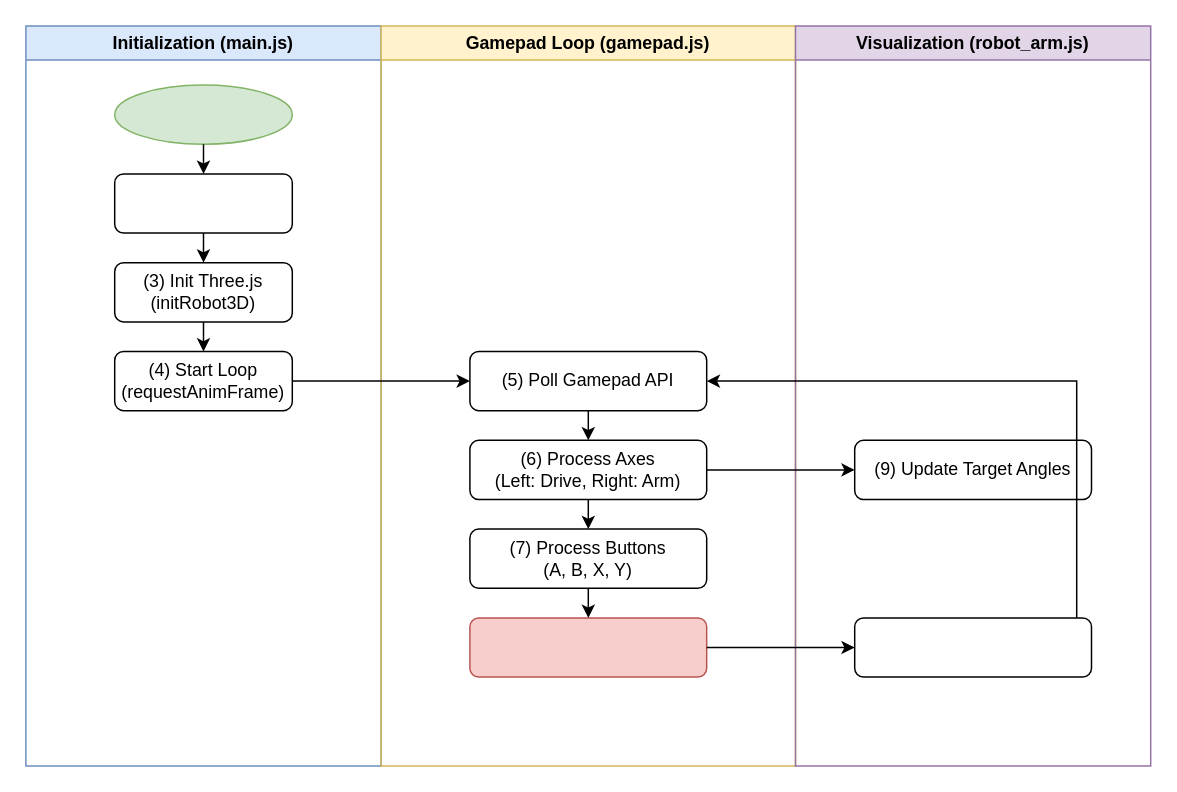
The diagram is 1177 pixels wide and 792 high, and some of its shapes have lost their labels. Each missing label, with the centre of its shape:
(1) Window Load: point 202,114
(10) Render Scene (Three.js): point 972,646
(2) Connect SocketIO: point 202,202
(8) Emit control_cmd (Throttle: 20Hz): point 587,646
